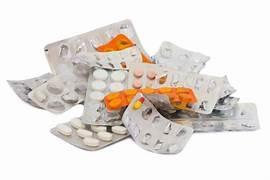pill_Strip: (44, 20, 149, 73), (128, 63, 223, 113), (122, 93, 192, 153), (29, 57, 89, 112), (68, 47, 141, 87), (160, 103, 259, 131), (82, 67, 127, 125), (170, 103, 259, 131), (28, 73, 86, 112), (56, 46, 142, 72), (171, 71, 223, 113), (50, 122, 128, 150), (104, 87, 195, 110), (29, 76, 79, 112), (153, 41, 209, 72), (7, 73, 52, 108), (161, 103, 256, 119), (28, 76, 68, 112), (79, 46, 142, 68), (59, 55, 90, 97), (126, 101, 163, 135), (61, 56, 90, 99), (58, 55, 97, 85), (128, 62, 172, 88), (174, 119, 258, 132), (95, 46, 142, 68), (59, 55, 91, 86), (82, 102, 122, 125), (224, 105, 259, 130), (56, 55, 90, 80), (214, 76, 238, 109), (192, 119, 258, 131), (192, 118, 258, 130), (193, 119, 257, 131), (104, 89, 138, 110), (7, 73, 53, 88), (212, 103, 257, 118), (61, 55, 90, 78), (96, 34, 135, 51), (167, 87, 197, 109), (96, 34, 133, 51), (144, 94, 176, 113), (144, 93, 175, 112), (144, 94, 175, 112), (158, 109, 215, 118), (144, 94, 174, 111), (168, 118, 199, 132), (157, 108, 194, 118), (219, 76, 235, 99), (68, 54, 94, 68), (219, 76, 235, 98), (214, 96, 239, 110), (220, 76, 235, 97), (220, 82, 236, 97), (111, 48, 132, 58), (91, 80, 106, 91), (56, 124, 71, 135), (70, 117, 84, 128), (111, 71, 126, 81), (83, 137, 99, 146), (133, 97, 144, 109), (76, 129, 92, 137), (97, 131, 111, 140), (214, 104, 233, 110), (90, 125, 106, 132), (111, 126, 126, 133), (132, 79, 141, 88), (133, 79, 141, 88), (147, 71, 155, 79), (164, 109, 177, 113), (151, 55, 157, 63), (151, 55, 156, 63), (150, 71, 154, 79), (79, 100, 83, 105)
